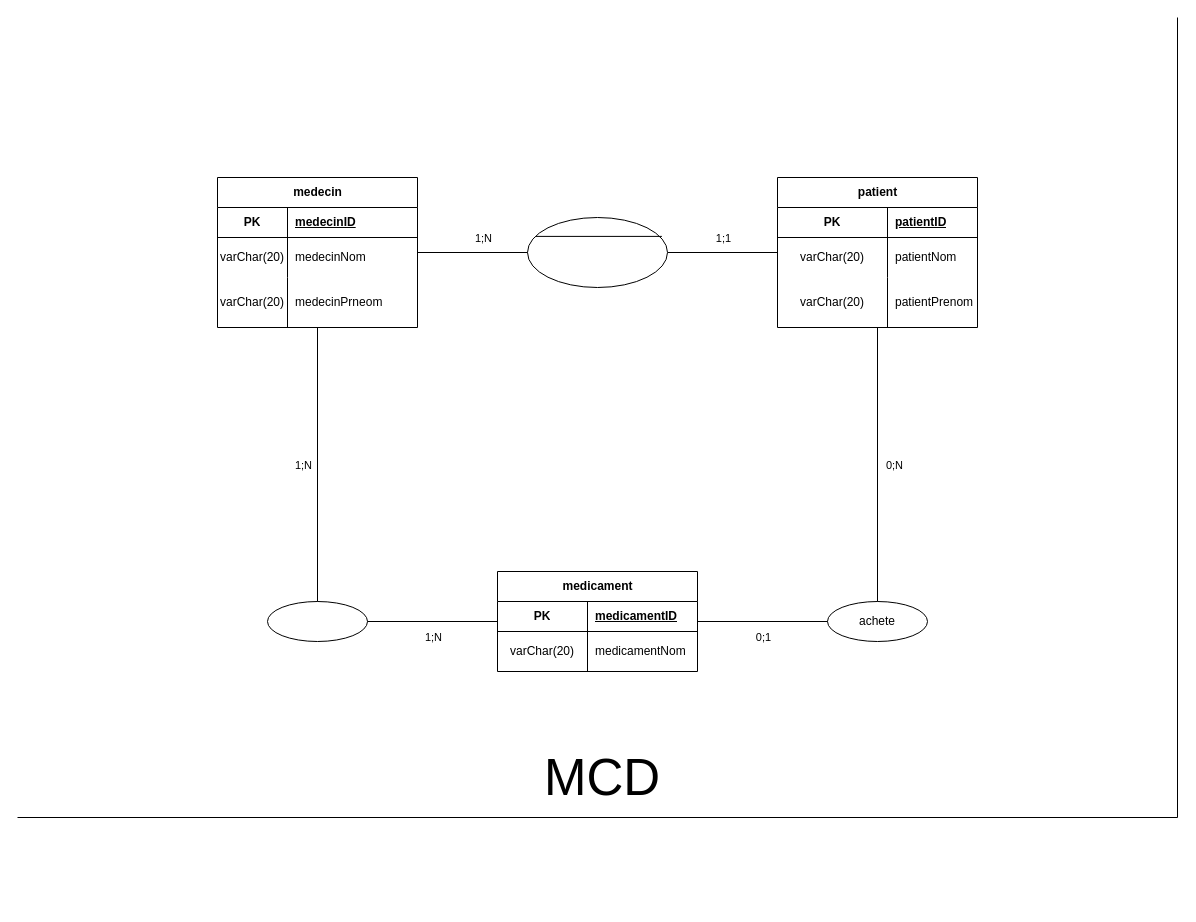
Some shapes in this 1196 by 922 pixel diagram are drawn without their labels. Here are the shapes that lost their labels. From the top down, the box of each, then its label:
(526, 216, 668, 288): consulte heur date lieu
(266, 600, 368, 642): prescrit
